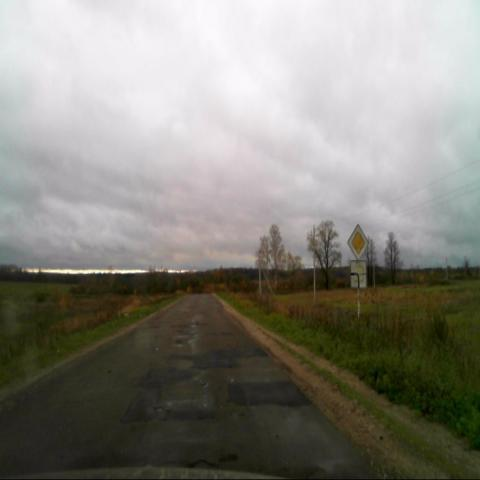8_13: (350, 261, 367, 289)
